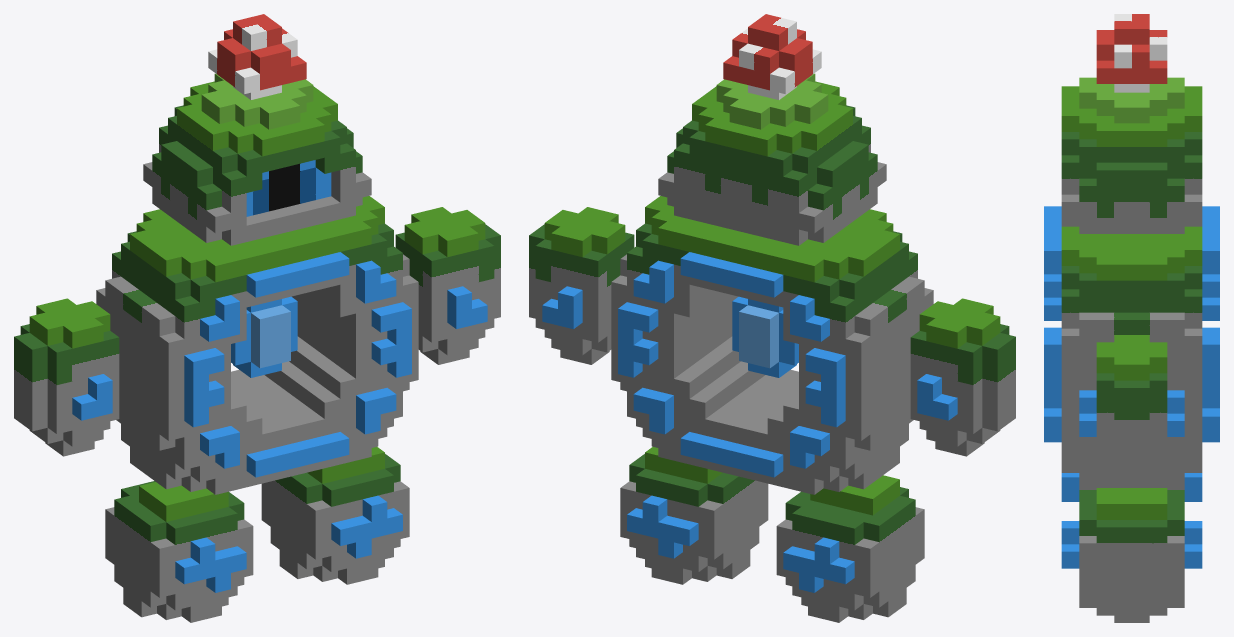
File: baby_golem_blue.gltf
3 renders of one model, left to right at view 1: azimuth 30°, elevation 25°; view 2: azimuth 150°, elevation 25°; view 3: azimuth 270°, elevation 25°, orthographic. The views are drawn at different scales.
Parts seen in each view (by area): view 1: baby_golem_blue-Mesh; view 2: baby_golem_blue-Mesh; view 3: baby_golem_blue-Mesh.
Boxes of the visible parts, box(x1,y1,x2,y2) form: baby_golem_blue-Mesh: box(14, 14, 500, 622); baby_golem_blue-Mesh: box(529, 14, 1015, 622); baby_golem_blue-Mesh: box(1044, 14, 1219, 622).
Bounding box in the file's own units: 30 × 34 × 10.
1 material, 1 textured.
